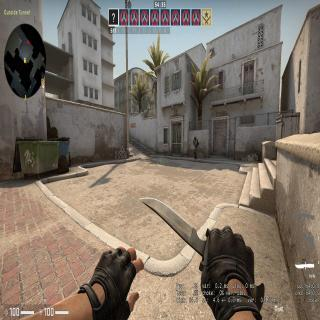CT-Body: (191, 135, 200, 164)
CT-Head: (194, 136, 197, 141)
